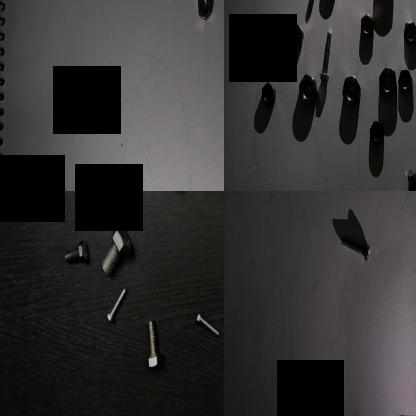Bolts: (100, 220, 132, 285), (143, 319, 165, 370), (62, 236, 90, 272), (193, 309, 221, 343), (338, 236, 372, 264), (106, 282, 127, 326), (320, 28, 332, 84), (407, 157, 416, 191), (304, 0, 324, 11)
NUTS: (342, 72, 361, 108), (298, 73, 318, 107), (378, 66, 398, 98), (259, 80, 277, 110), (196, 0, 217, 24), (368, 119, 384, 150), (398, 68, 414, 96), (359, 14, 375, 41), (403, 19, 416, 48), (290, 22, 304, 48)
